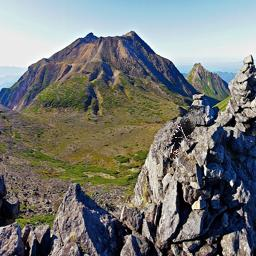Crow: (164, 104, 204, 159)
